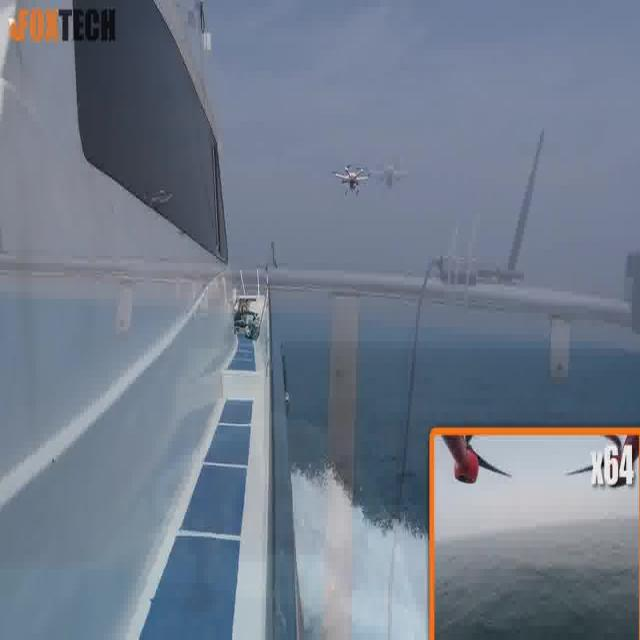drone: (330, 159, 373, 200)
